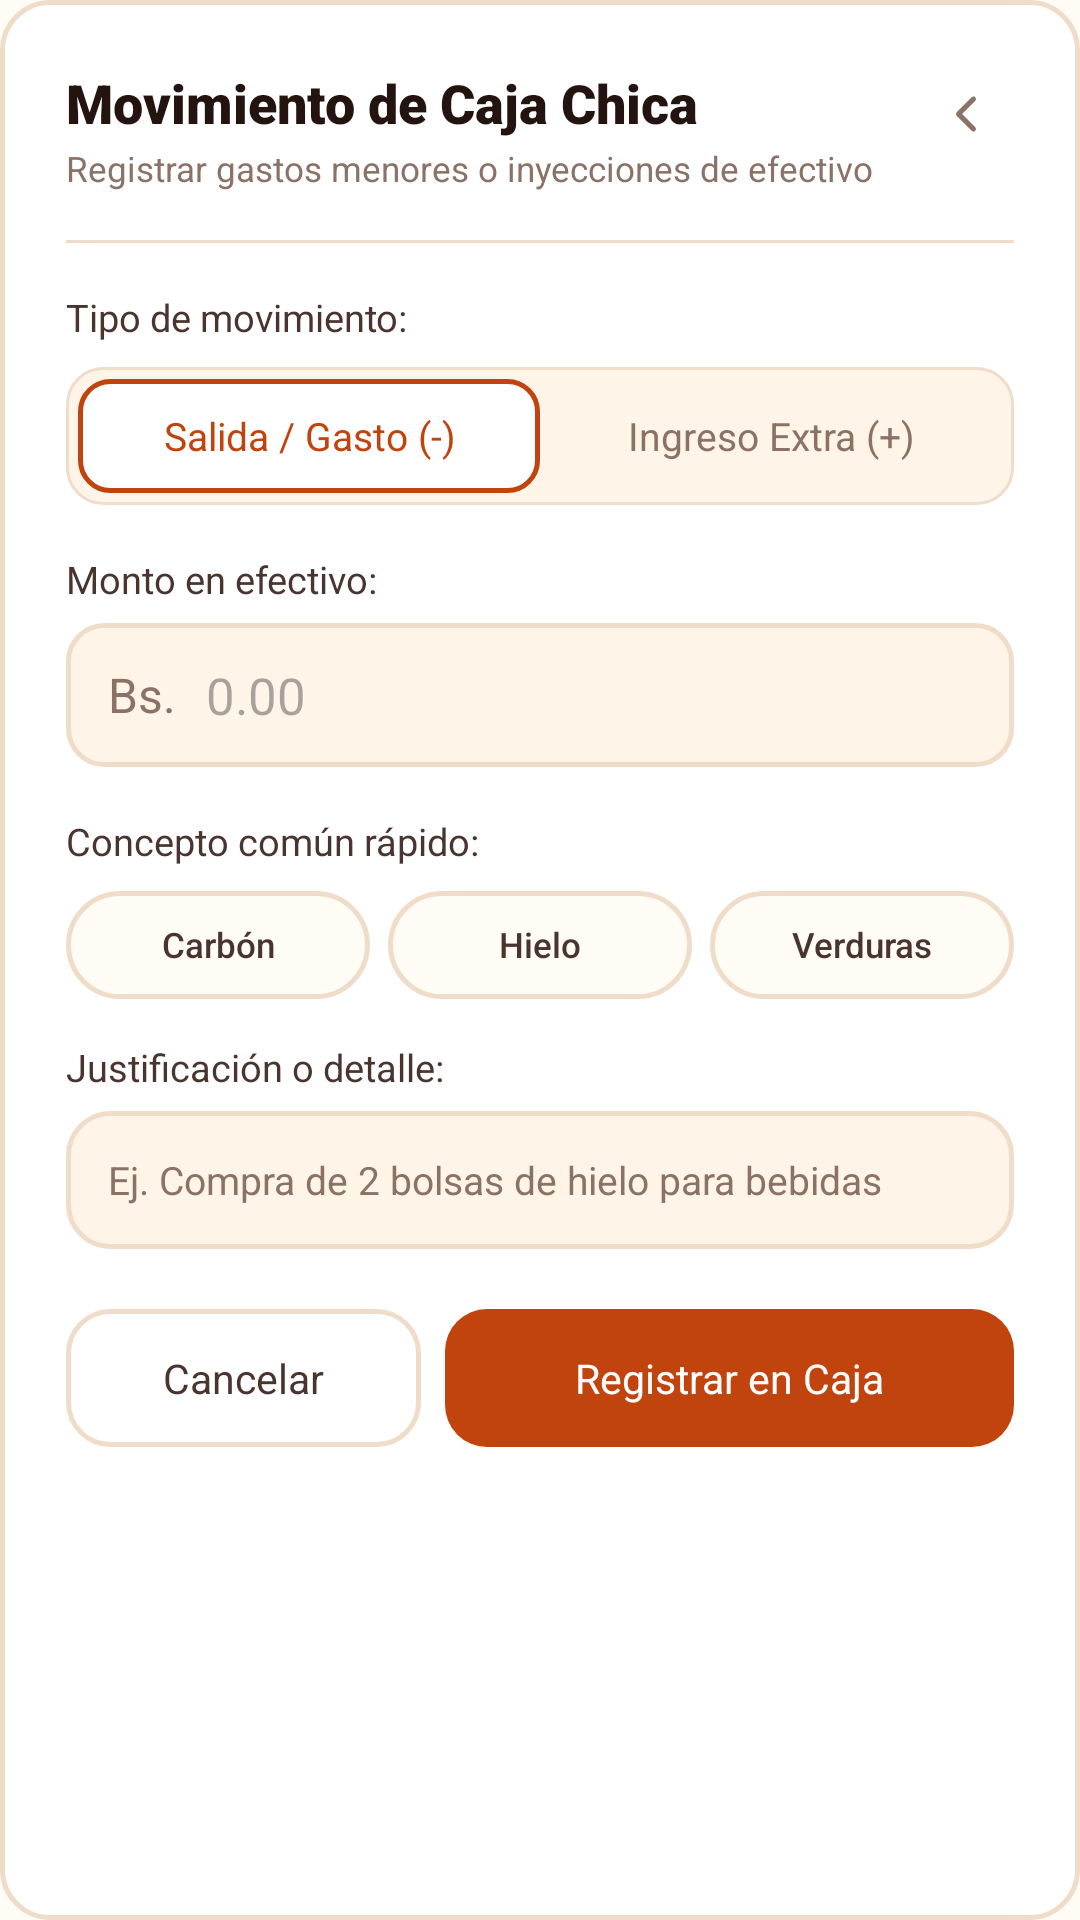

Icon bounding boxes for this 1080*1920 phone screenshot, format (x1, y1, x2, y2):
Cerrar: (956, 96, 976, 132)
